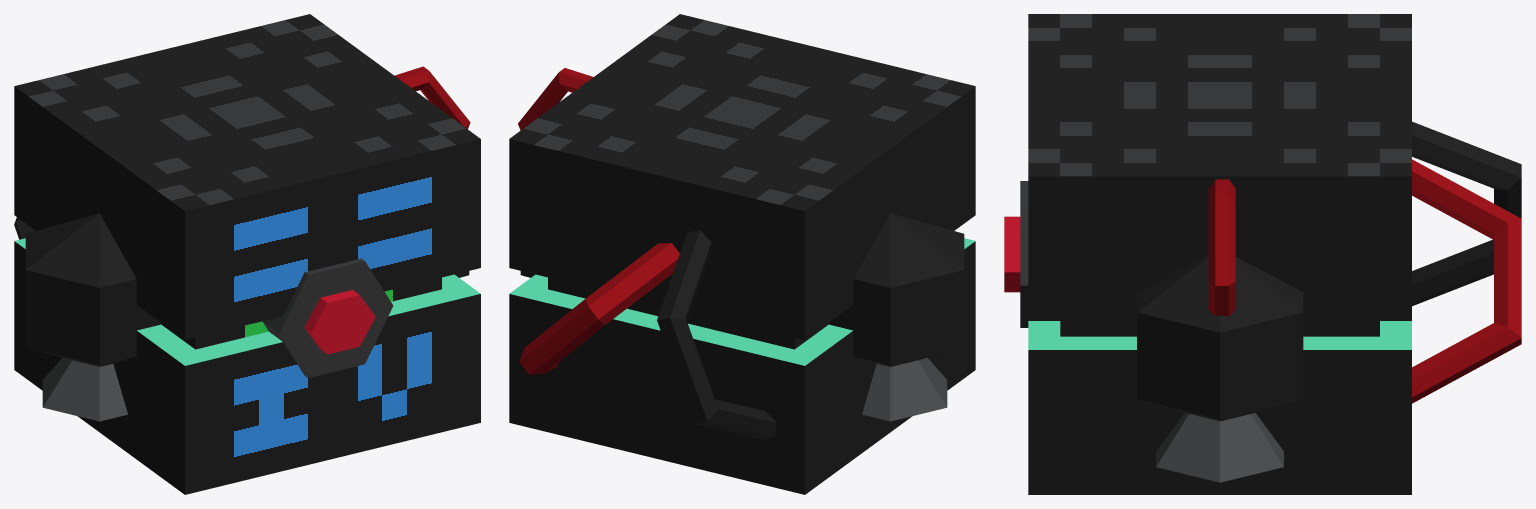
File: Companion.gltf
3 views of the same model, side by side, from view 1: azimuth 30°, elevation 25°; view 2: azimuth 150°, elevation 25°; view 3: azimuth 270°, elevation 25° (orthographic). The views are drawn at different scales.
Visible parts, largest first — view 1: cube; view 2: cube; view 3: cube.
Part boxes in pixels (x1,y1,x2,y2): cube: [14, 14, 480, 494]; cube: [509, 14, 975, 494]; cube: [1004, 14, 1521, 494].
Bounding box in the file's own units: 1.12 × 0.6875 × 1.01.
1 material, 1 textured.
